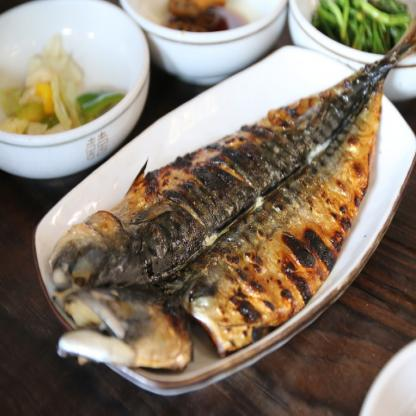Peixe: (44, 24, 412, 375)
